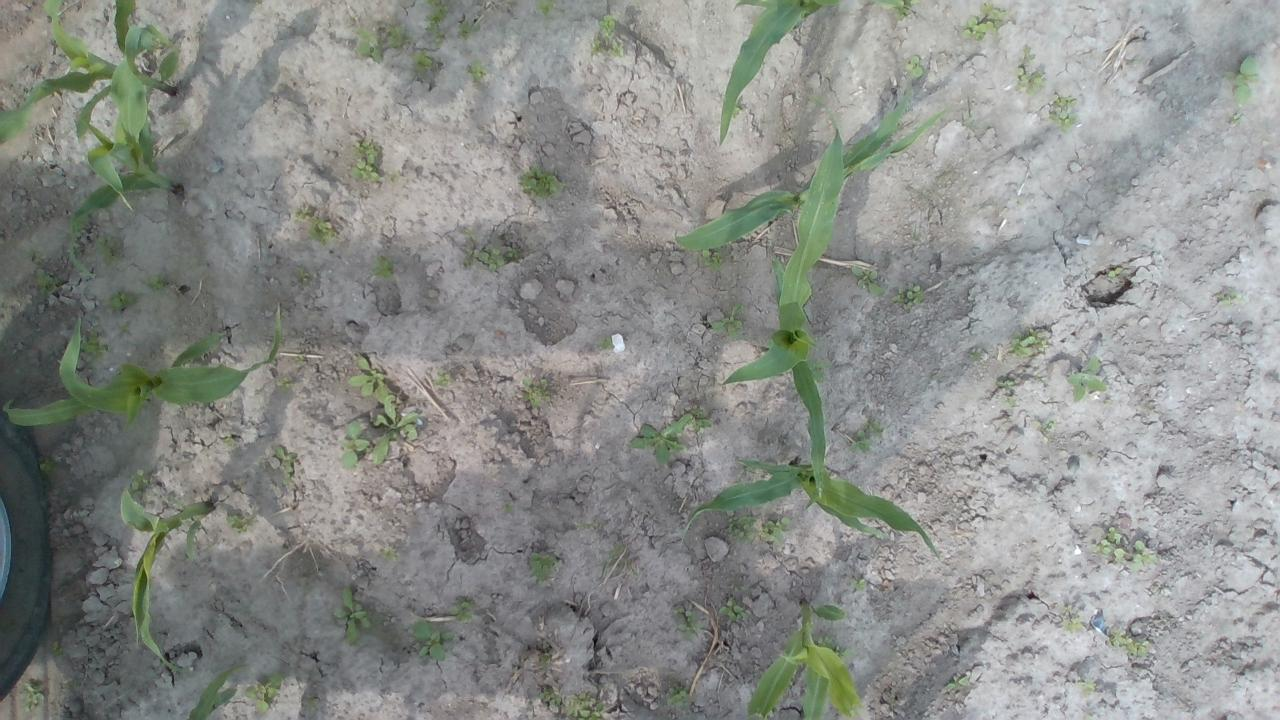Maize: (724, 91, 846, 511), (672, 87, 942, 248), (0, 298, 285, 436), (678, 454, 946, 562), (68, 44, 185, 284), (0, 0, 178, 152), (714, 0, 844, 147), (118, 490, 212, 680), (749, 604, 866, 720), (186, 661, 246, 720)
Weeds: (368, 393, 419, 466), (630, 412, 690, 465), (332, 586, 372, 644), (346, 354, 388, 404), (1067, 354, 1108, 402), (412, 616, 454, 661), (1222, 55, 1258, 106), (518, 164, 568, 200), (244, 670, 286, 712), (338, 420, 370, 466), (1106, 628, 1150, 658), (1090, 526, 1125, 562), (714, 300, 745, 339), (350, 141, 380, 181), (563, 691, 603, 720), (724, 514, 760, 546), (528, 550, 562, 582), (1014, 65, 1048, 97), (354, 27, 385, 62), (78, 329, 110, 362), (851, 266, 884, 298), (674, 608, 704, 642), (17, 679, 44, 715), (520, 376, 550, 408), (891, 281, 925, 309), (1128, 538, 1157, 570), (274, 444, 296, 486), (97, 235, 125, 267), (761, 518, 790, 546), (880, 0, 920, 20), (448, 595, 476, 623), (308, 218, 337, 245), (36, 270, 66, 296), (476, 246, 506, 272), (719, 596, 749, 622), (982, 2, 1006, 34), (1060, 604, 1086, 632), (1006, 330, 1034, 356), (104, 290, 137, 312), (125, 470, 149, 500), (424, 0, 448, 30), (688, 402, 712, 432), (602, 541, 624, 572), (1049, 107, 1076, 132), (410, 47, 433, 75), (849, 428, 874, 453), (538, 686, 564, 710), (666, 682, 690, 708), (698, 248, 724, 272), (386, 25, 410, 50), (597, 9, 616, 40), (372, 254, 396, 278), (226, 514, 254, 534), (808, 355, 828, 383), (962, 17, 986, 39), (944, 674, 970, 694), (1215, 290, 1243, 308), (1076, 676, 1100, 696), (905, 55, 926, 77), (468, 58, 488, 80), (866, 419, 888, 439), (1028, 328, 1048, 350), (456, 21, 481, 38), (814, 632, 836, 651), (1052, 92, 1077, 108), (305, 694, 327, 712), (433, 370, 452, 388), (296, 266, 313, 286), (574, 520, 608, 530), (458, 248, 476, 266), (849, 576, 867, 594), (380, 546, 400, 562), (536, 0, 556, 16), (38, 456, 56, 473), (277, 376, 295, 393), (146, 274, 165, 290), (609, 40, 626, 57), (48, 641, 64, 659), (539, 642, 552, 664), (27, 247, 43, 264), (996, 378, 1016, 391), (590, 40, 606, 56), (294, 208, 312, 222), (834, 644, 852, 658), (433, 29, 447, 45), (964, 120, 980, 133), (1023, 44, 1034, 62), (294, 351, 307, 366), (730, 100, 741, 117), (969, 346, 982, 360), (598, 336, 612, 349), (506, 245, 518, 260), (728, 580, 744, 591), (64, 678, 78, 690), (388, 168, 400, 182), (1044, 419, 1058, 431), (502, 502, 514, 515), (223, 437, 237, 446), (1108, 268, 1122, 277), (910, 231, 921, 241), (118, 321, 128, 331), (1004, 397, 1015, 406), (464, 226, 474, 235), (1230, 114, 1240, 123), (703, 320, 711, 328)
